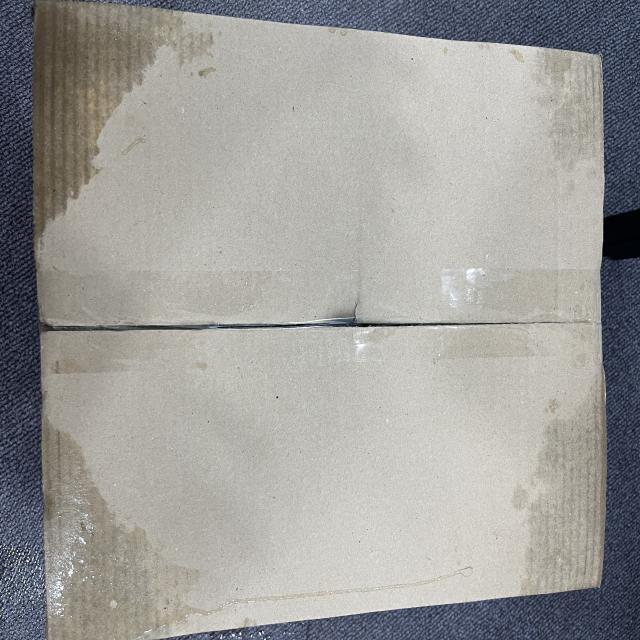wet: (22, 7, 207, 255), (28, 423, 202, 639), (502, 366, 603, 592), (522, 56, 610, 186)
